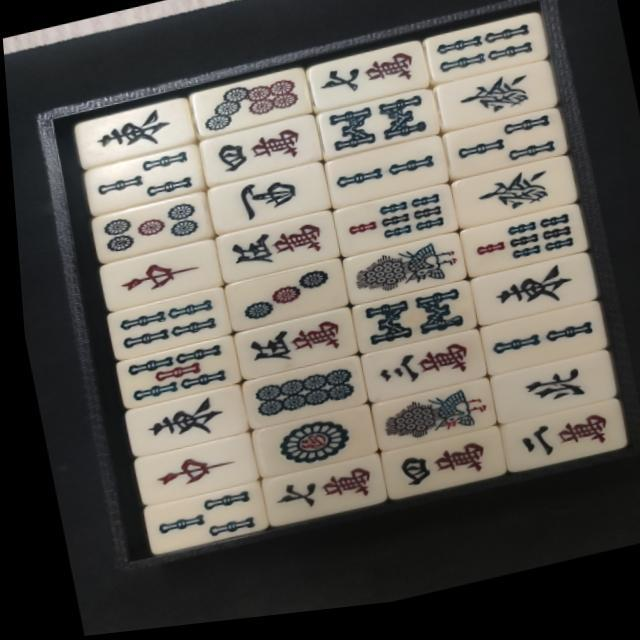hdg: (449, 170, 568, 234), (435, 72, 548, 138)
hdr: (133, 440, 244, 503), (102, 247, 210, 309)
hwe: (466, 266, 586, 331), (123, 393, 234, 454), (76, 103, 186, 164)
hwn: (486, 365, 602, 430)
hww: (206, 170, 324, 237)
sb1: (368, 388, 488, 456), (340, 242, 460, 309)
sb2: (476, 316, 596, 382), (324, 147, 441, 210)
sb3: (138, 489, 254, 554), (444, 122, 560, 186), (86, 148, 194, 212)
sb4: (104, 296, 220, 359), (428, 26, 538, 90)
sb5: (112, 341, 226, 408)
sb7: (458, 217, 578, 284), (332, 195, 448, 261)
sb8: (347, 290, 467, 358), (316, 99, 434, 162)
sc2: (498, 416, 614, 479)
sc3: (358, 340, 476, 406)
sc4: (378, 440, 494, 504), (198, 124, 312, 186)
sc5: (230, 317, 346, 382), (214, 219, 330, 284)
sc7: (258, 464, 372, 528), (308, 52, 423, 115)
sd1: (245, 413, 368, 481)
sd3: (221, 266, 339, 334)
sd5: (90, 200, 200, 260)
sd7: (190, 75, 304, 140)
sd8: (238, 364, 356, 431)
